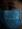with_mask: (1, 1, 22, 29)
